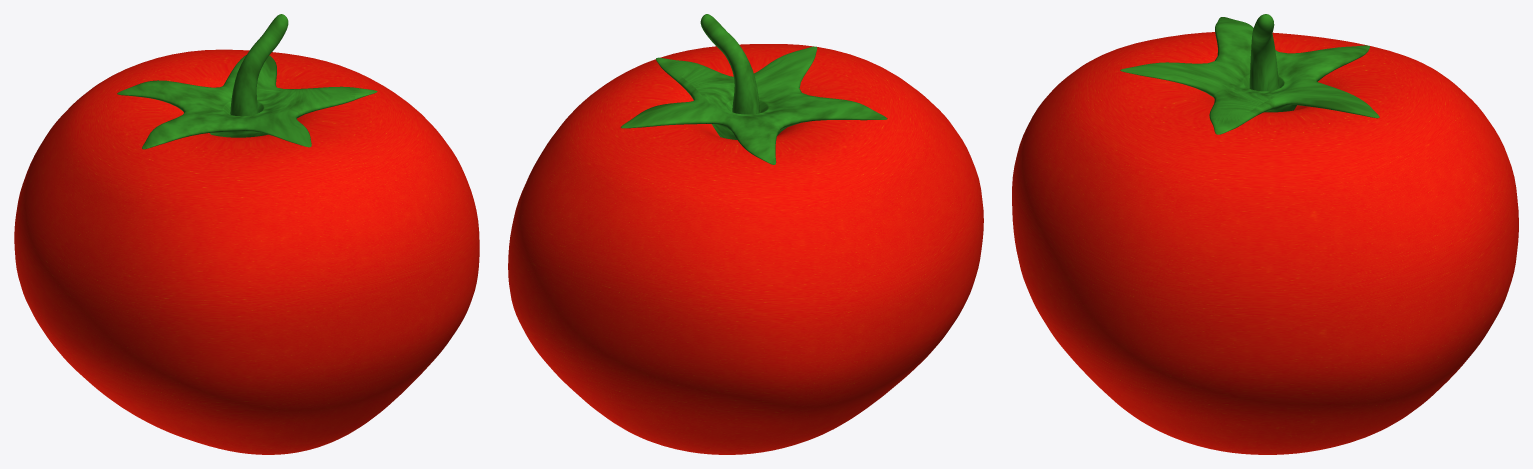
File: tomato.fbx
3 views of the same model, side by side, from view 1: azimuth 30°, elevation 25°; view 2: azimuth 150°, elevation 25°; view 3: azimuth 270°, elevation 25° (orthographic). The views are drawn at different scales.
Parts seen in each view (by area): view 1: 1, 2; view 2: 1, 2; view 3: 1, 2.
Boxes of the visible parts, bbox=[...] form: 1: bbox=[14, 49, 479, 454]; 2: bbox=[117, 14, 377, 149]; 1: bbox=[508, 44, 983, 454]; 2: bbox=[620, 14, 887, 164]; 1: bbox=[1012, 32, 1518, 454]; 2: bbox=[1120, 14, 1379, 134].
Size of the model in its own units: 400 by 391 by 426.
2 materials, 2 textured.
